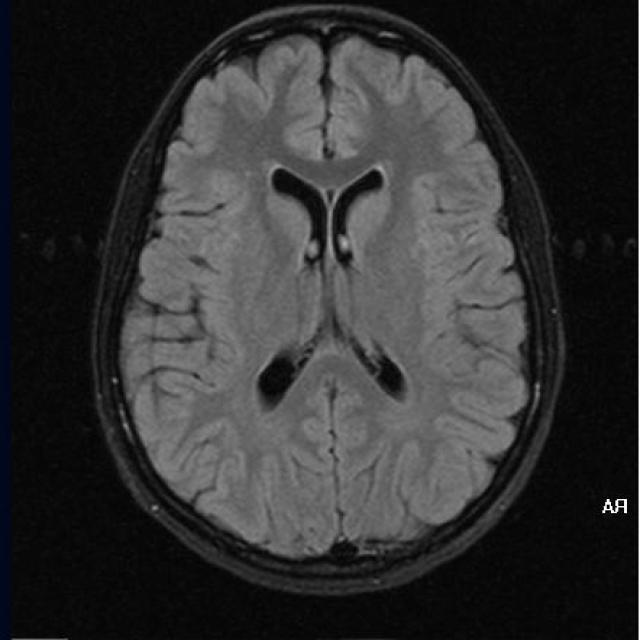No_Tumor: (94, 5, 563, 594)
